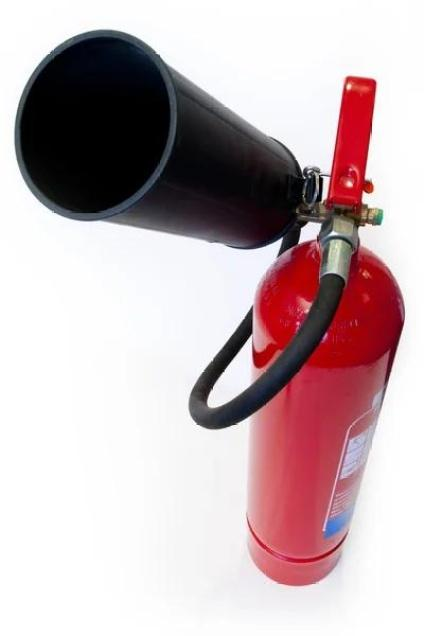APAR: (243, 206, 405, 586)
